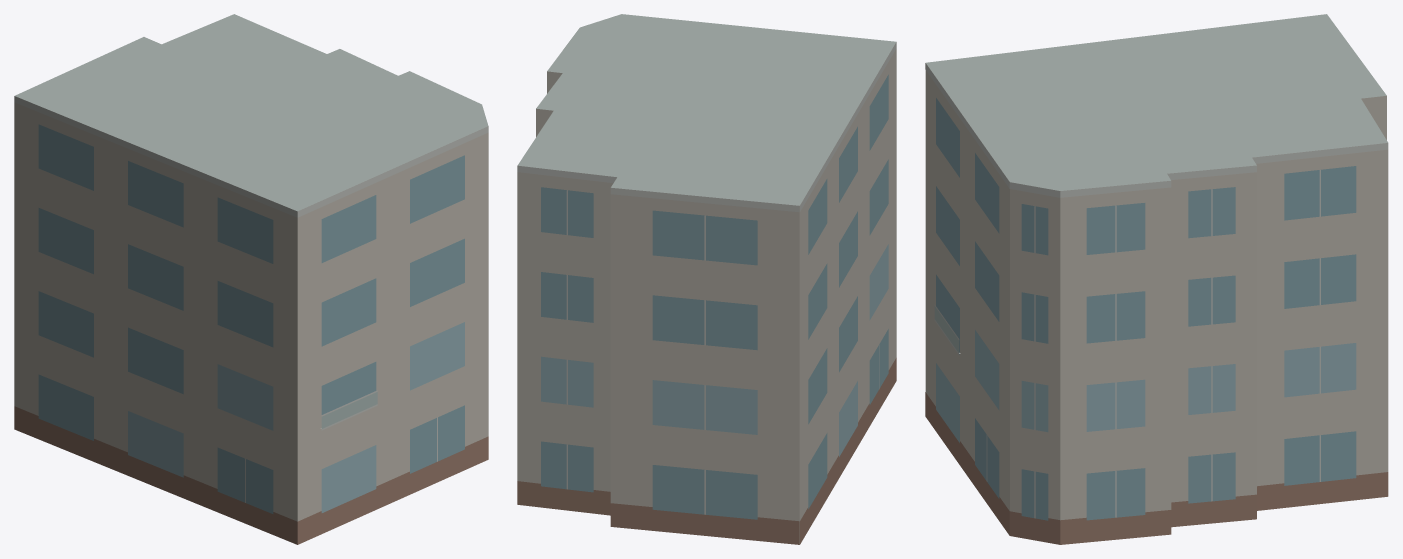
The model's file is survey-upis-32697618.glb.
3 views of the same model, side by side, from view 1: azimuth 30°, elevation 25°; view 2: azimuth 150°, elevation 25°; view 3: azimuth 270°, elevation 25° (orthographic). The views are drawn at different scales.
Parts seen in each view (by area): view 1: survey-upis-32697618.tmp; view 2: survey-upis-32697618.tmp; view 3: survey-upis-32697618.tmp.
Boxes of the visible parts, <box> form: survey-upis-32697618.tmp: <box>14,14,488,544</box>; survey-upis-32697618.tmp: <box>517,14,896,544</box>; survey-upis-32697618.tmp: <box>925,14,1388,544</box>.
Size of the model in its own units: 13.75 by 12.8 by 15.19.
